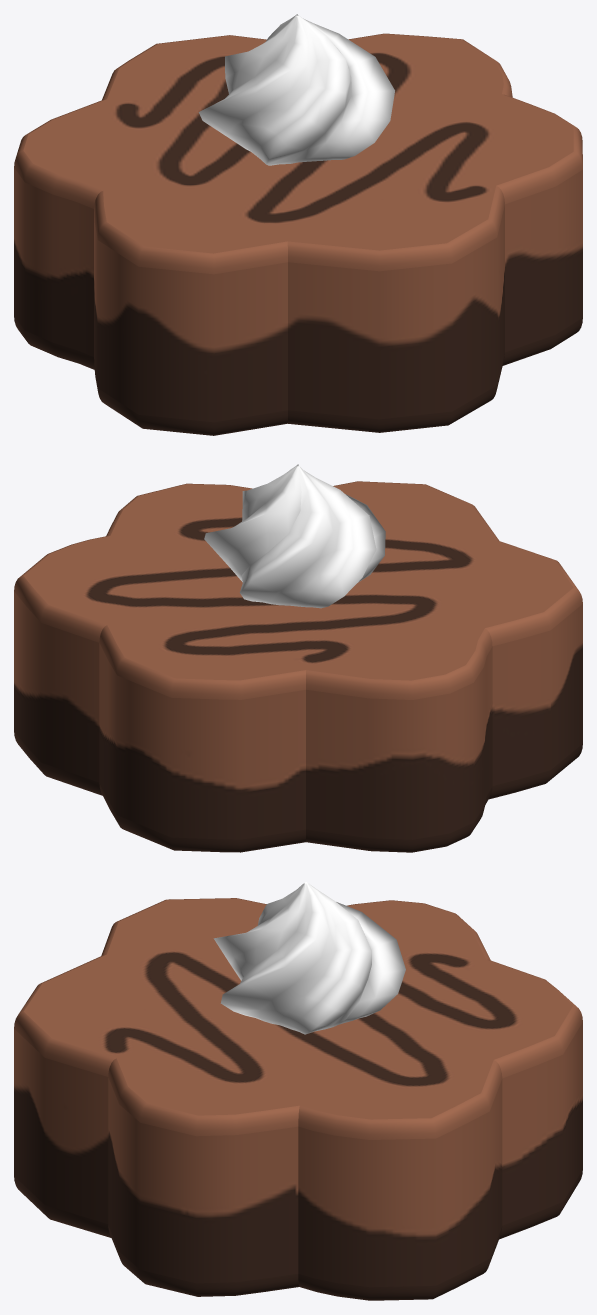
The model's file is cocoa_bonbon__dandys_world_objets.glb.
The picture shows the model from 3 angles, top to bottom: view 1: azimuth 30°, elevation 25°; view 2: azimuth 150°, elevation 25°; view 3: azimuth 270°, elevation 25°; orthographic projection. The views are drawn at different scales.
Visible parts, largest first — view 1: Object_2; view 2: Object_2; view 3: Object_2.
Part boxes in pixels (box(x1,y1,x2,y2)): Object_2: box(14, 14, 582, 435); Object_2: box(14, 464, 582, 852); Object_2: box(14, 881, 582, 1300).
Size of the model in its own units: 1.91 by 1.2 by 2.01.
1 material, 1 textured.
